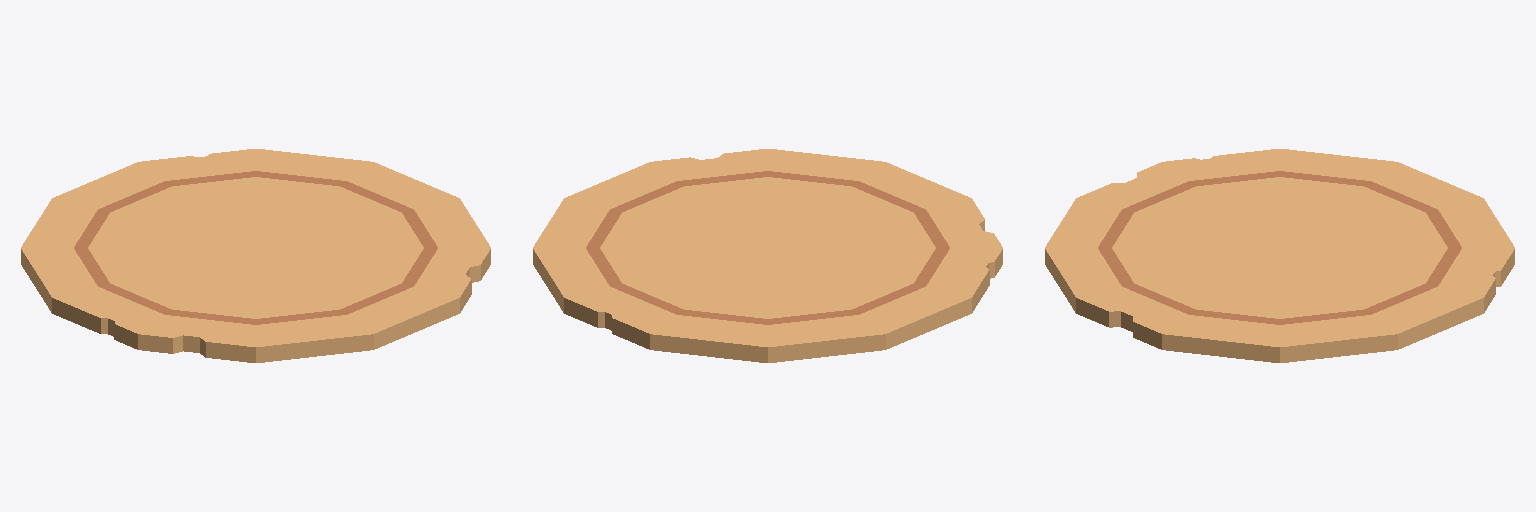
Rendered from cuttingBoardRound.obj.
3 views of the same model, side by side, from view 1: azimuth 30°, elevation 25°; view 2: azimuth 150°, elevation 25°; view 3: azimuth 270°, elevation 25° (orthographic).
Visible parts, largest first — view 1: cuttingBoardRound; view 2: cuttingBoardRound; view 3: cuttingBoardRound.
Part boxes in pixels (x1,y1,x2,y2): cuttingBoardRound: (21, 149, 490, 362); cuttingBoardRound: (533, 149, 1002, 362); cuttingBoardRound: (1045, 149, 1514, 362).
Size of the model in its own units: 0.8 by 0.03 by 0.8.